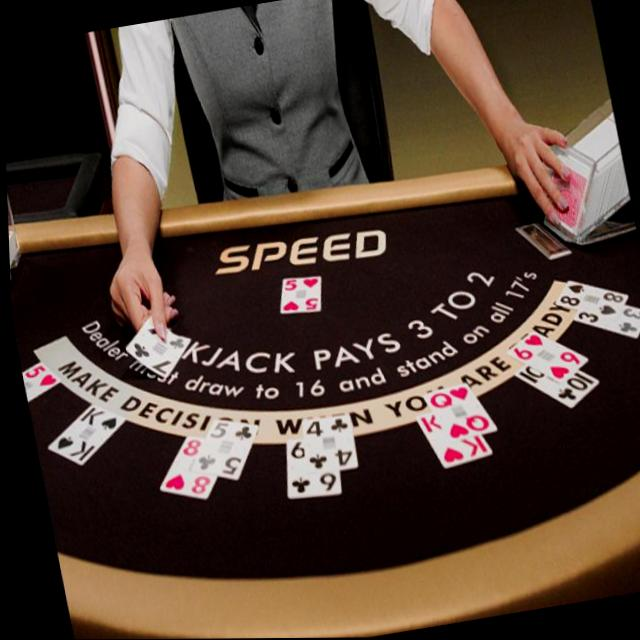Card-10: (512, 366, 596, 408)
Card-3: (571, 304, 640, 339)
Card-4: (299, 414, 354, 473)
Card-5: (189, 419, 254, 480), (19, 361, 58, 402), (278, 276, 319, 314)
Card-6: (504, 331, 585, 384), (283, 440, 337, 500)
Card-7: (122, 313, 188, 377)
Card-8: (156, 434, 213, 500), (554, 280, 626, 319)
Card-K: (45, 404, 122, 466), (412, 413, 489, 469)
Card-Q: (420, 382, 494, 443)
